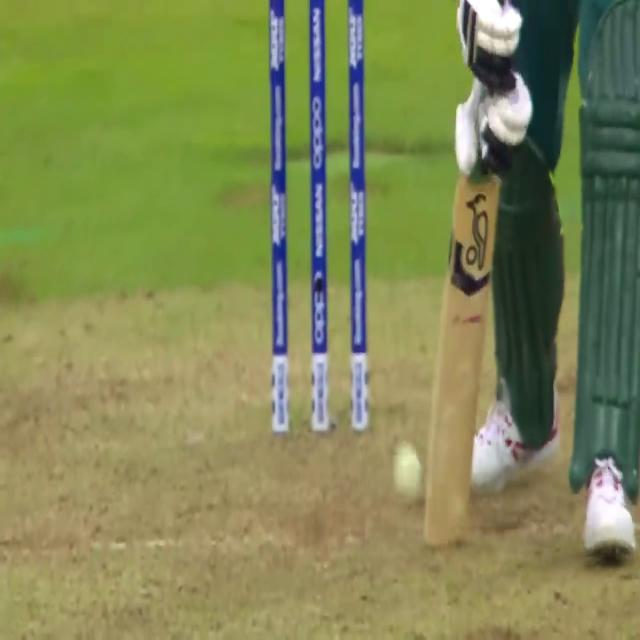ball: (386, 434, 430, 517)
